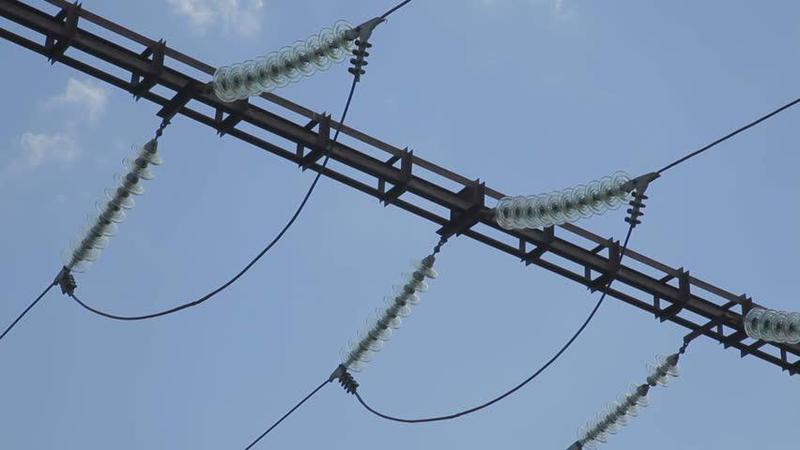isolator: (58, 141, 167, 274), (212, 17, 358, 103), (337, 257, 440, 374), (576, 351, 681, 449), (495, 171, 633, 230), (743, 307, 800, 345)
